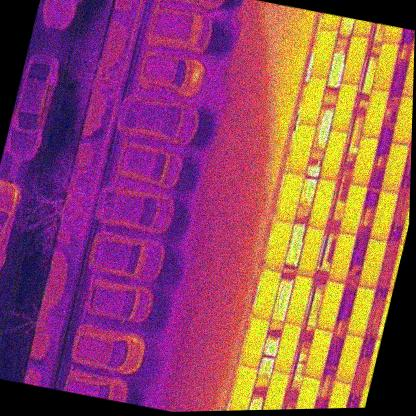Normal: (368, 190, 399, 244), (359, 88, 391, 140), (379, 141, 410, 194), (349, 136, 379, 189), (314, 279, 344, 332), (338, 183, 367, 237), (329, 81, 359, 133), (252, 268, 282, 320), (319, 128, 348, 181), (287, 123, 316, 176), (264, 220, 293, 273), (304, 327, 333, 380), (357, 238, 387, 289), (333, 334, 363, 385), (298, 75, 327, 127), (307, 178, 336, 230), (284, 274, 313, 326), (273, 323, 302, 375), (371, 41, 400, 93), (241, 315, 269, 368), (346, 286, 375, 337), (340, 34, 369, 85), (309, 28, 338, 79), (327, 232, 355, 283), (277, 171, 304, 223), (297, 227, 325, 277), (229, 363, 258, 411), (390, 93, 413, 146), (261, 370, 289, 410), (292, 378, 320, 409), (323, 381, 350, 409), (402, 47, 414, 97)
